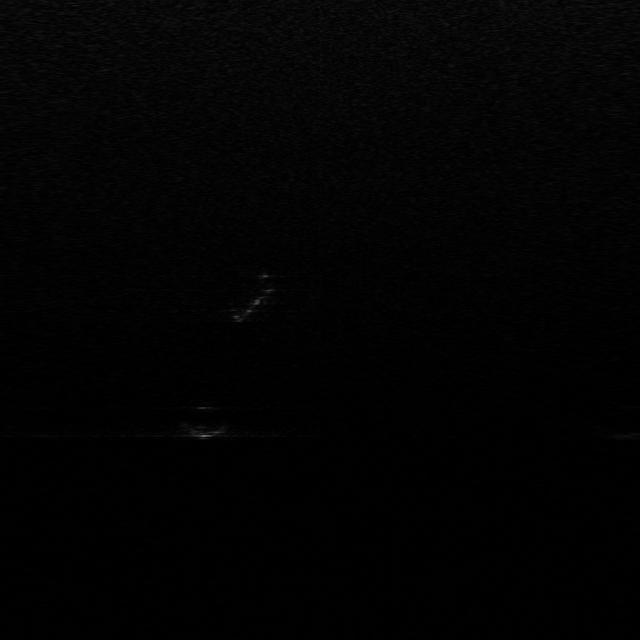ball: (173, 399, 231, 438)
tyre: (233, 273, 278, 325)
